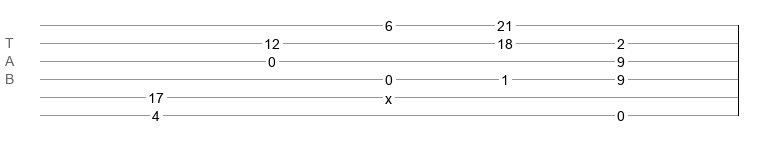0: (268, 54, 276, 64), (385, 72, 393, 82), (617, 108, 625, 118)
1: (501, 72, 509, 82)
12: (264, 36, 280, 46)
17: (148, 90, 164, 100)
18: (497, 36, 513, 46)
2: (617, 36, 625, 46)
21: (497, 18, 513, 28)
4: (152, 108, 160, 118)
6: (385, 18, 393, 28)
9: (617, 72, 625, 82), (617, 54, 625, 64)
x: (385, 91, 392, 99)
